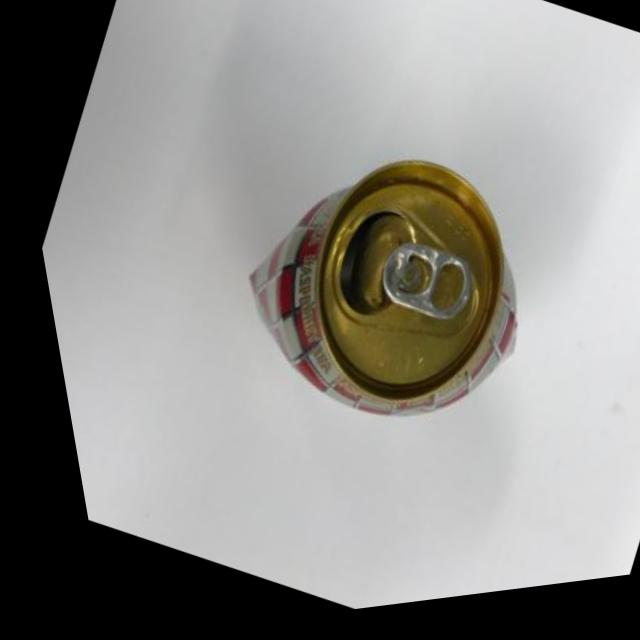metal: (87, 28, 640, 619)
